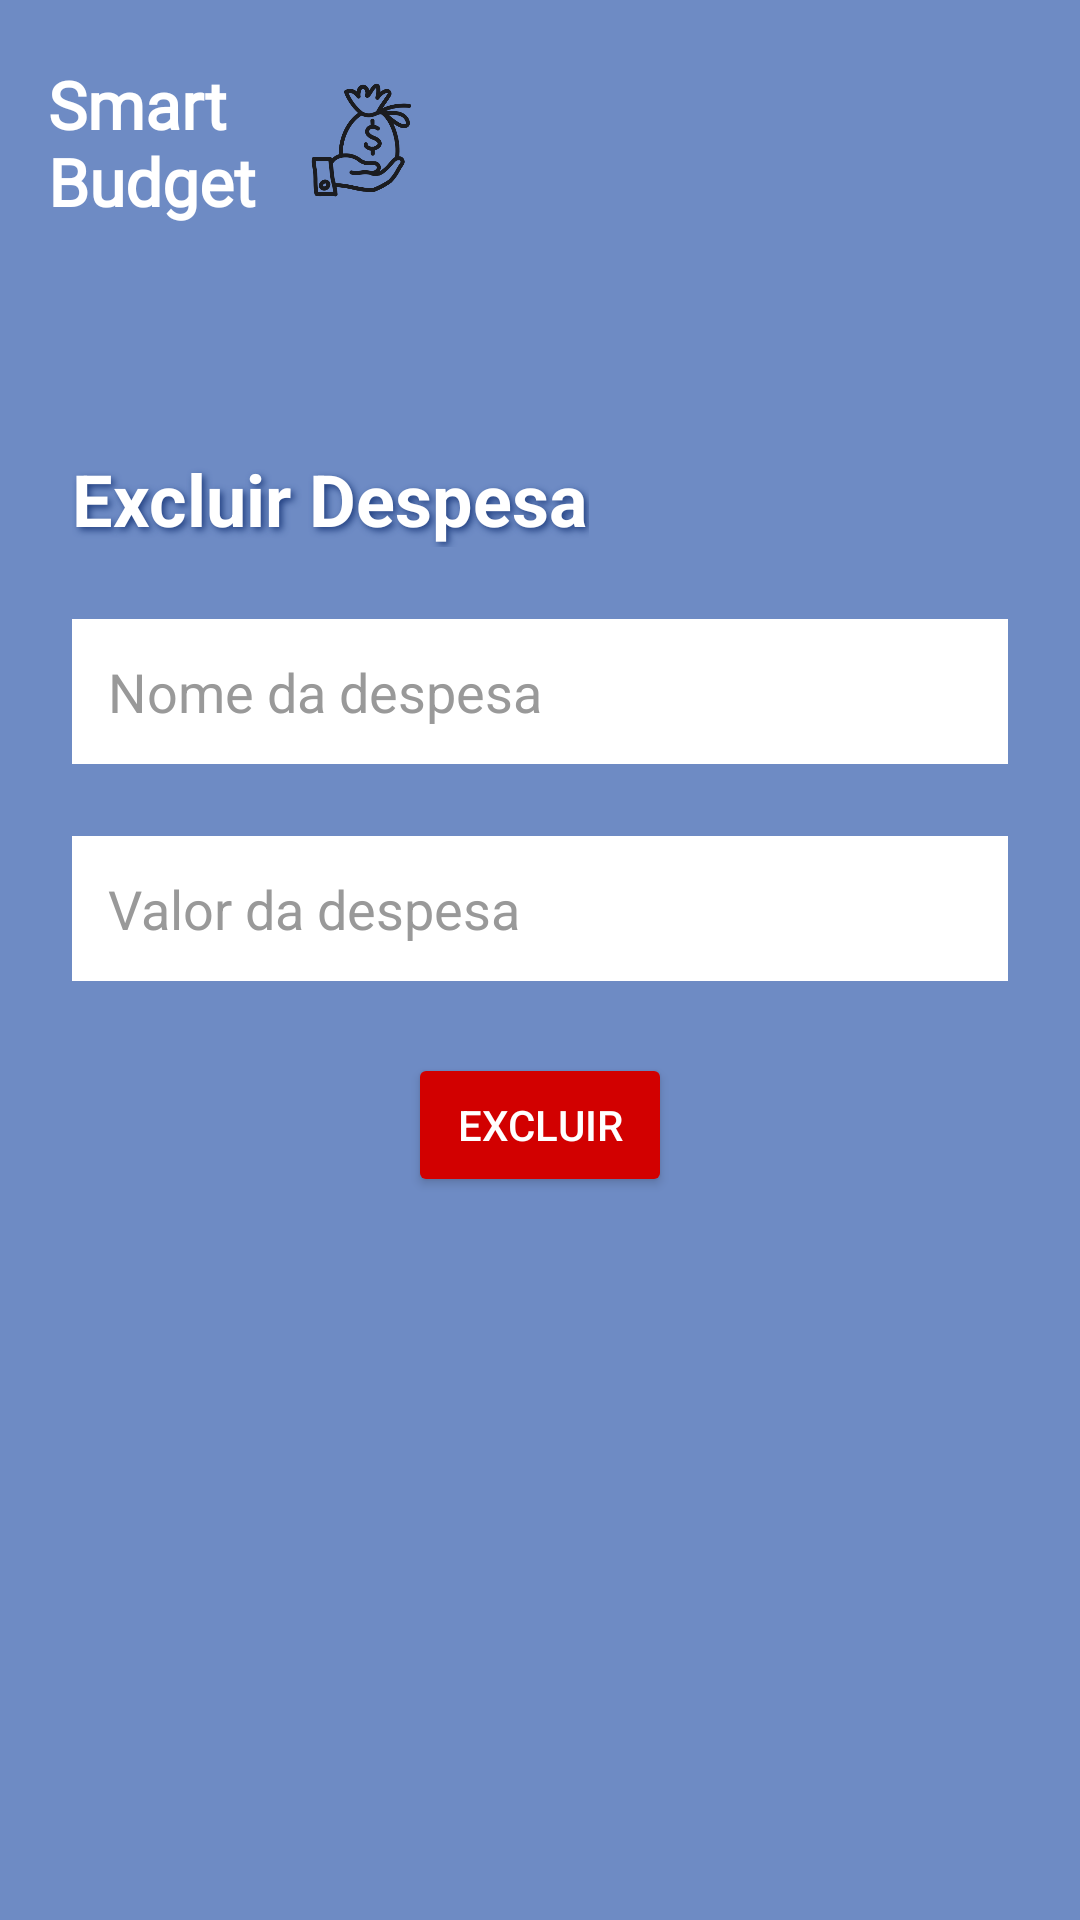

Where to tap for icons on this 1080px×1920px app screen, as point (x, y):
money savings save: point (361, 140)
